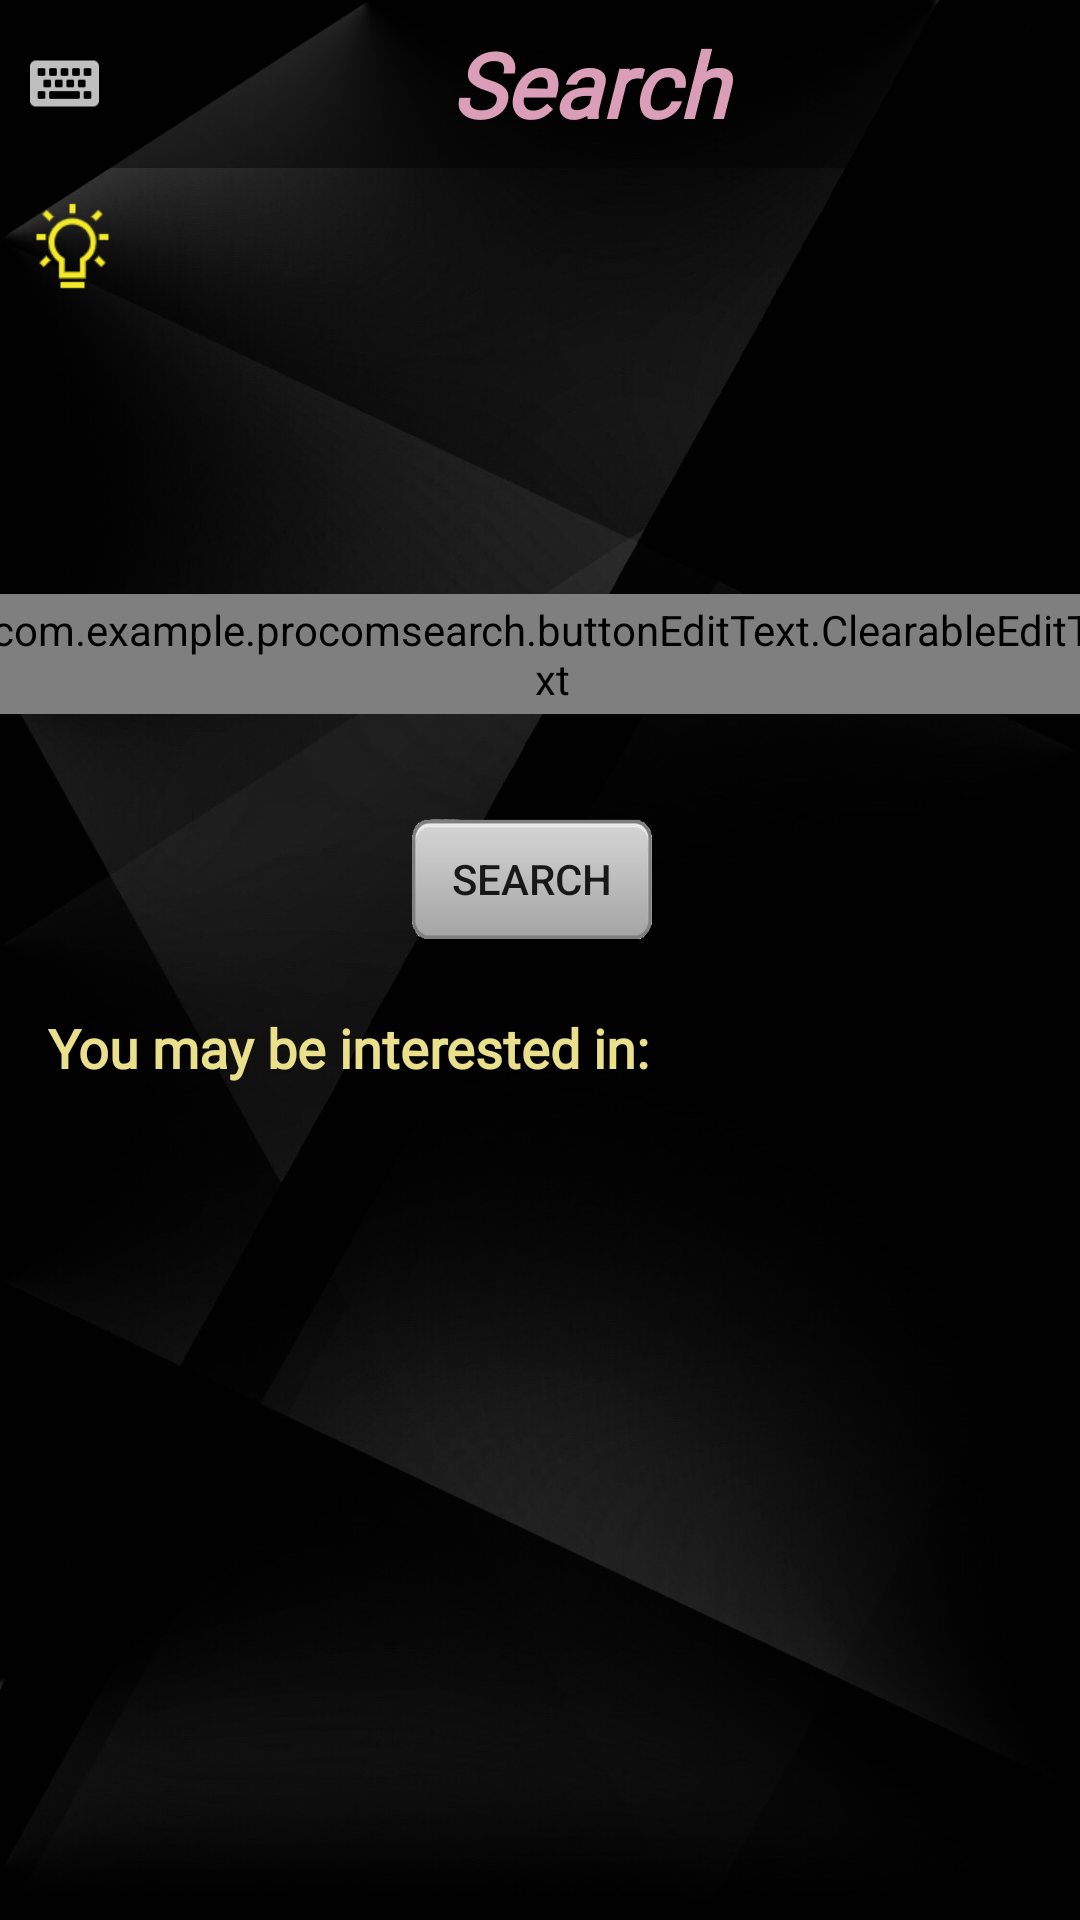

Where icons sit on this 1080px x 1920px app screen, as {"x1": x1, "y1": y1, "x2": x2, "y2": y2}:
hint: {"x1": 20, "y1": 198, "x2": 125, "y2": 289}
keyboardddd: {"x1": 30, "y1": 60, "x2": 99, "y2": 107}
